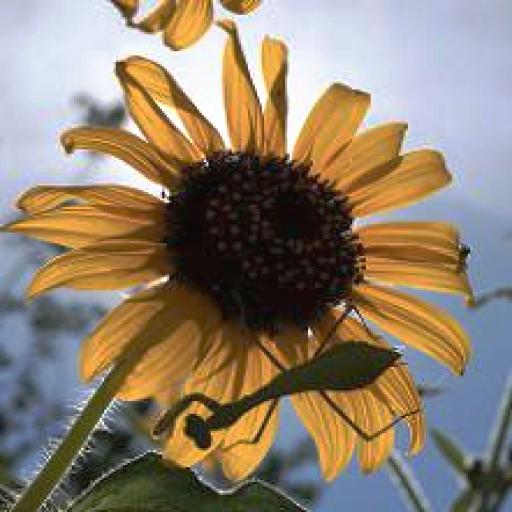sunflower: (9, 21, 473, 482)
